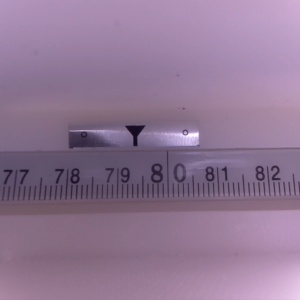0: (173, 162, 187, 182)
2: (270, 165, 280, 181)
7: (18, 169, 29, 185), (53, 169, 64, 184), (2, 169, 12, 185), (103, 168, 113, 183)
8: (150, 163, 163, 183), (69, 168, 80, 184), (205, 166, 215, 182), (255, 166, 265, 181)
9: (119, 167, 129, 183)
finger: (123, 125, 146, 147)
